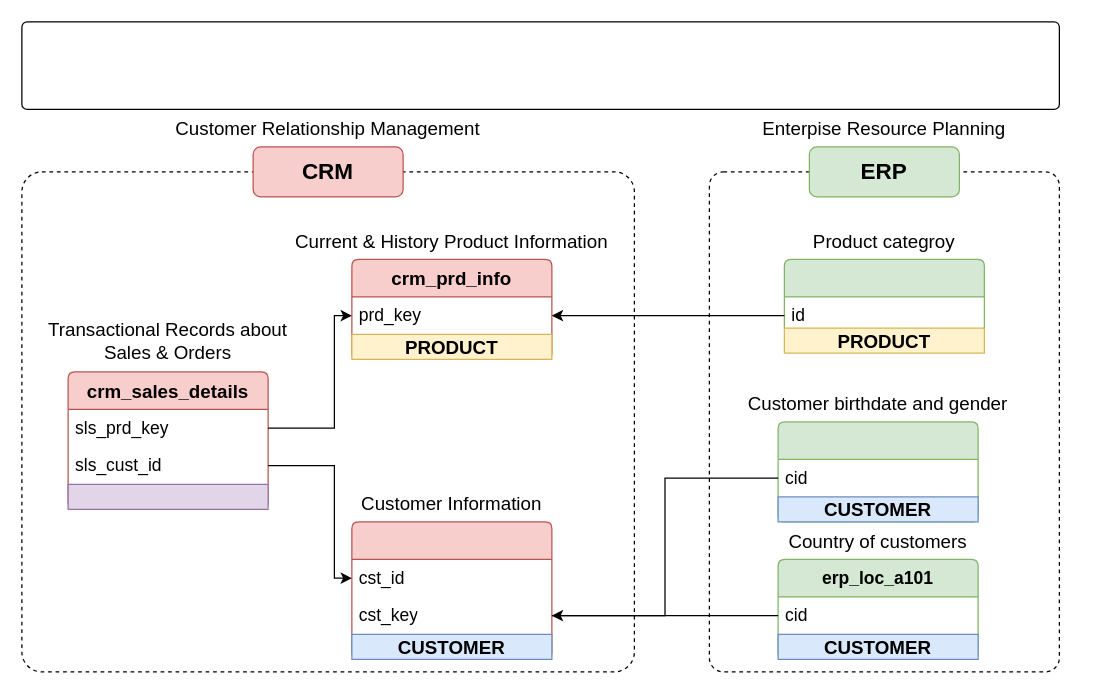
Image size: 1113x694. Some labels were removed from this diagram. The shapes that lost their labels are listed below. From the top down, each one's box as (x1, y1, x2, y2) in pixels, then its label:
(21, 21, 1059, 109): Data Integration (how tables are related)
(783, 258, 984, 334): erp_px_cat_g1v2
(777, 421, 978, 522): erp_cust_az12
(67, 483, 268, 509): SALES
(351, 521, 552, 659): crm_cust_info
